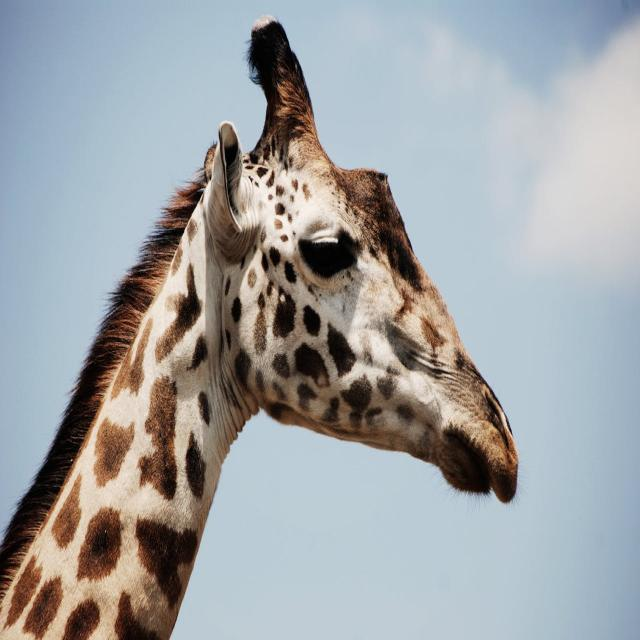Giraffe: (2, 17, 518, 640)
